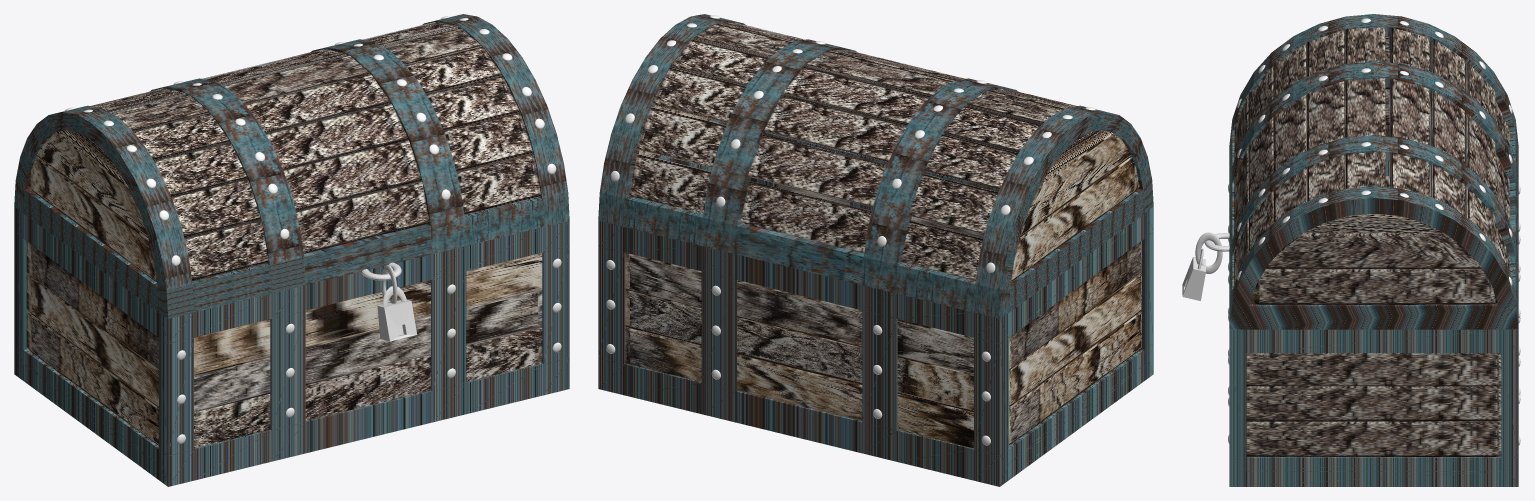
The model's file is tresure_chest.glb.
3 views of the same model, side by side, from view 1: azimuth 30°, elevation 25°; view 2: azimuth 150°, elevation 25°; view 3: azimuth 270°, elevation 25° (orthographic). The views are drawn at different scales.
Parts seen in each view (by area): view 1: Cube.053, Cylinder.002, Cylinder.001, Cube.002, Cube.007, Cube.010, t, Sphere.057, Sphere.024; view 2: Cube.053, Cylinder.002, Cylinder.001, Cube.024, Cube.007, Cube.010, Sphere.057, Sphere.024, Cube.002; view 3: Cylinder.001, Cube.053, Cube.004, Cylinder.002, Cube.014, t, Sphere.057, Sphere.024, Cube.010.
Boxes of the visible parts, <box> form: Cube.053: <box>91,22,540,280</box>; Cylinder.002: <box>14,167,569,486</box>; Cylinder.001: <box>14,14,569,318</box>; Cube.002: <box>194,253,542,448</box>; Cube.007: <box>26,241,158,445</box>; Cube.010: <box>28,130,156,281</box>; t: <box>361,262,417,341</box>; Sphere.057: <box>65,16,556,265</box>; Sphere.024: <box>177,258,561,443</box>; Cube.053: <box>629,22,1076,279</box>; Cylinder.002: <box>598,133,1153,486</box>; Cylinder.001: <box>598,14,1153,318</box>; Cube.024: <box>625,253,973,448</box>; Cube.007: <box>1009,241,1141,445</box>; Cube.010: <box>1011,130,1139,281</box>; Sphere.057: <box>610,15,1095,272</box>; Sphere.024: <box>606,260,990,445</box>; Cube.002: <box>774,183,984,280</box>; Cylinder.001: <box>1229,14,1518,329</box>; Cube.053: <box>1234,27,1509,284</box>; Cube.004: <box>1246,353,1501,456</box>; Cylinder.002: <box>1229,161,1518,486</box>; Cube.014: <box>1250,213,1497,304</box>; t: <box>1182,232,1229,300</box>; Sphere.057: <box>1237,18,1512,286</box>; Sphere.024: <box>1228,184,1520,445</box>; Cube.010: <box>1385,37,1429,125</box>.
Size of the model in its own units: 3.01 by 2.21 by 2.34.
Materials: 6 (5 with a texture image).
